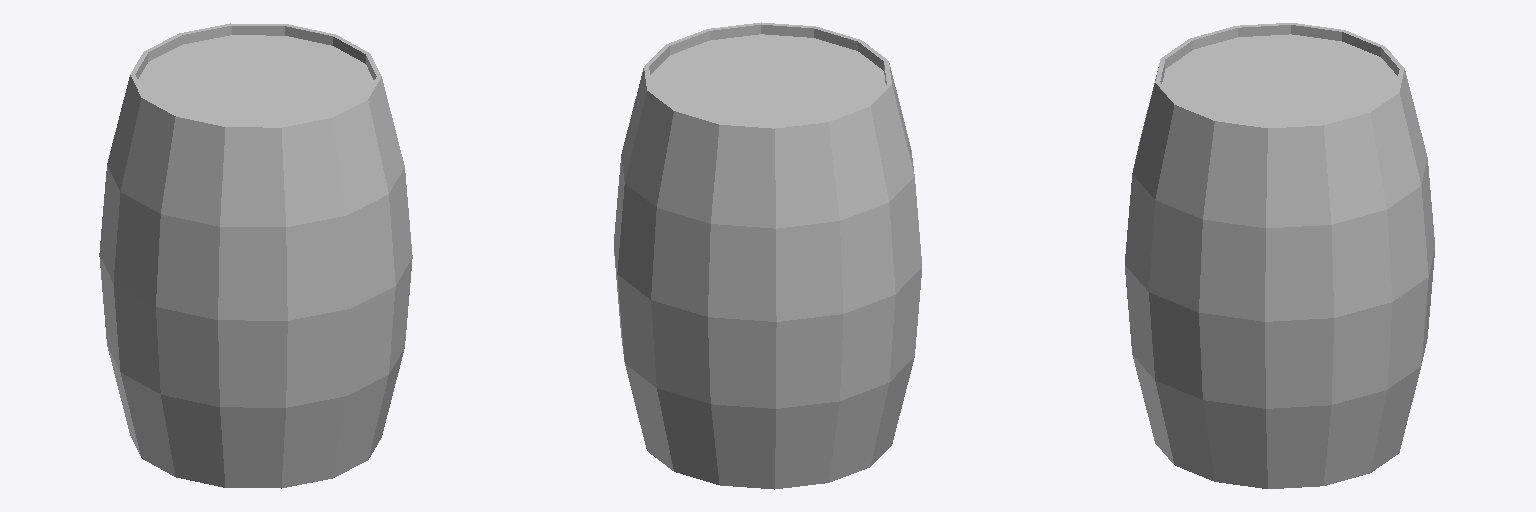
Rendered from barrel_5_002.obj.
3 renders of one model, left to right at view 1: azimuth 30°, elevation 25°; view 2: azimuth 150°, elevation 25°; view 3: azimuth 270°, elevation 25°, orthographic.
Visible parts, largest first — view 1: wood_barrel_mini; view 2: wood_barrel_mini; view 3: wood_barrel_mini.
Part boxes in pixels (bbox=[...]): wood_barrel_mini: bbox=[99, 23, 412, 488]; wood_barrel_mini: bbox=[614, 22, 921, 489]; wood_barrel_mini: bbox=[1125, 23, 1434, 488].
Size of the model in its own units: 62.39 by 79.61 by 62.15.